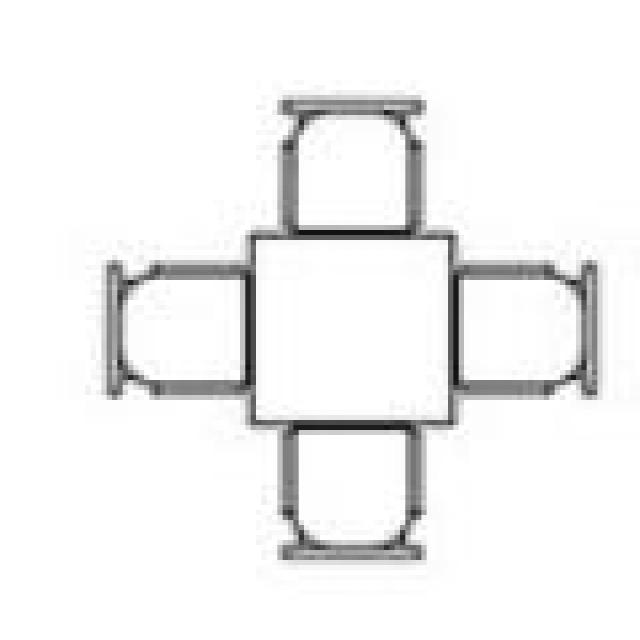table: (107, 90, 597, 560)
